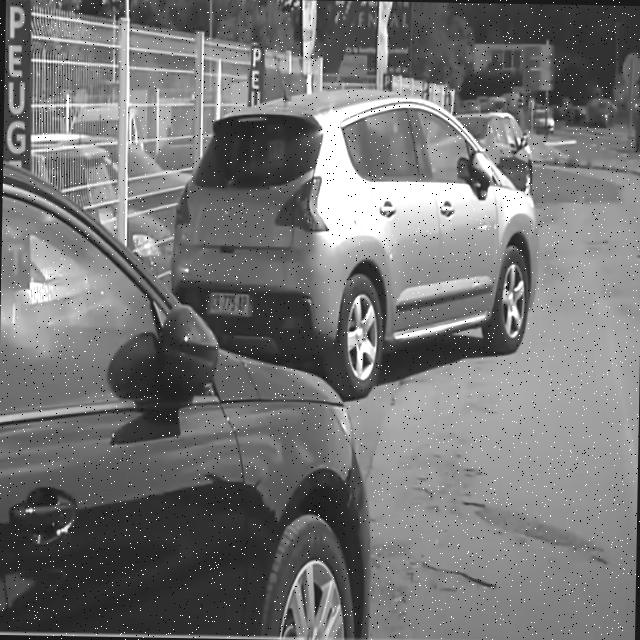Autre: (206, 282, 256, 322)
